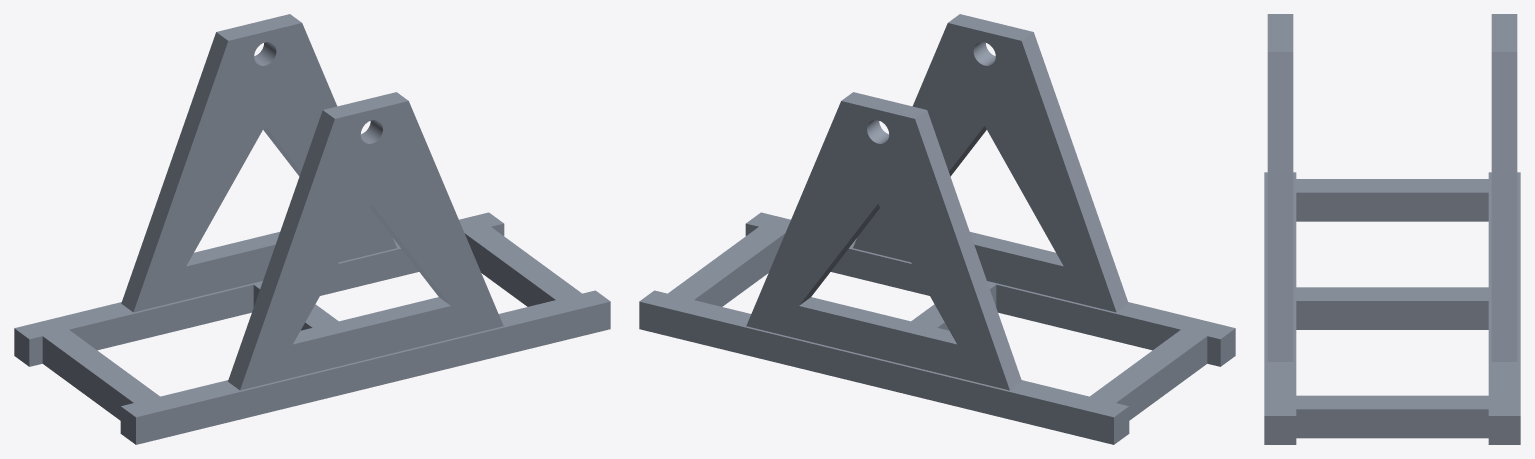
File: step-2.glb
3 renders of one model, left to right at view 1: azimuth 30°, elevation 25°; view 2: azimuth 150°, elevation 25°; view 3: azimuth 270°, elevation 25°, orthographic. The views are drawn at different scales.
Parts seen in each view (by area): view 1: face_34d923c5cc0273aa6e75, face_5b95a24020a418d23f3b, face_d85b668a0006ba6affbe, face_e8b85afa708fb4fee940, face_b6fab3d4a9dbbcaf1519, face_3c0834110e3bc344f8e5, face_fb8887bba764df91bad6, face_246edf2abe85ad273bca, face_3e9cd110ecaf1841d03a, face_7c4ae456088e469ec514, face_32f9bf8e40359642b27a, face_f65f635afc2fa1b87529 (+3 smaller); view 2: face_ef5056151f815182bda0, face_fe4e841fd695f834da92, face_80b5e0dae24f9436188f, face_e8b85afa708fb4fee940, face_bc4d6481ef769fb29cba, face_fb8887bba764df91bad6, face_3c0834110e3bc344f8e5, face_246edf2abe85ad273bca, face_bf1306e5727f1e8a53bb, face_7c4ae456088e469ec514, face_f65f635afc2fa1b87529, face_32f9bf8e40359642b27a (+3 smaller); view 3: face_e8b85afa708fb4fee940, face_7a4d995620524e4ab61b, face_5c6a311c84a0fef03e59, face_eaa270c082d40c3f3501, face_14de0b3180eca4220d2a, face_f7f6948fa4251880c2cf, face_1005296317179e802ba1, face_3ebdc74f41b9cd34a261, face_27a02da4b4b9ff2baa63, face_976867df65dec3c6b524.
Boxes of the visible parts, x1,y1,x2,y2 form: face_34d923c5cc0273aa6e75: (240, 101, 503, 390); face_5b95a24020a418d23f3b: (133, 23, 396, 312); face_d85b668a0006ba6affbe: (136, 301, 610, 444); face_e8b85afa708fb4fee940: (14, 212, 610, 417); face_b6fab3d4a9dbbcaf1519: (69, 284, 253, 350); face_3c0834110e3bc344f8e5: (121, 32, 228, 312); face_fb8887bba764df91bad6: (228, 110, 334, 389); face_246edf2abe85ad273bca: (42, 336, 133, 420); face_3e9cd110ecaf1841d03a: (320, 248, 418, 295); face_7c4ae456088e469ec514: (464, 233, 555, 306); face_32f9bf8e40359642b27a: (293, 297, 450, 344); face_f65f635afc2fa1b87529: (186, 232, 279, 266); face_ef5056151f815182bda0: (746, 101, 1009, 390); face_fe4e841fd695f834da92: (853, 23, 1116, 312); face_80b5e0dae24f9436188f: (639, 301, 1113, 444); face_e8b85afa708fb4fee940: (639, 212, 1235, 417); face_bc4d6481ef769fb29cba: (996, 284, 1180, 350); face_fb8887bba764df91bad6: (1021, 32, 1128, 312); face_3c0834110e3bc344f8e5: (915, 110, 1021, 389); face_246edf2abe85ad273bca: (1116, 336, 1207, 420); face_bf1306e5727f1e8a53bb: (831, 248, 929, 295); face_7c4ae456088e469ec514: (694, 233, 785, 306); face_f65f635afc2fa1b87529: (799, 297, 956, 344); face_32f9bf8e40359642b27a: (970, 232, 1063, 266); face_e8b85afa708fb4fee940: (1264, 172, 1520, 415); face_7a4d995620524e4ab61b: (1491, 52, 1517, 361); face_5c6a311c84a0fef03e59: (1267, 52, 1293, 361); face_eaa270c082d40c3f3501: (1296, 409, 1488, 438); face_14de0b3180eca4220d2a: (1296, 192, 1488, 221); face_f7f6948fa4251880c2cf: (1296, 301, 1488, 329); face_1005296317179e802ba1: (1491, 14, 1517, 51); face_3ebdc74f41b9cd34a261: (1267, 14, 1293, 51); face_27a02da4b4b9ff2baa63: (1264, 416, 1296, 444); face_976867df65dec3c6b524: (1488, 416, 1520, 444).
Bounding box in the file's own units: 0.18 × 0.1 × 0.08.
